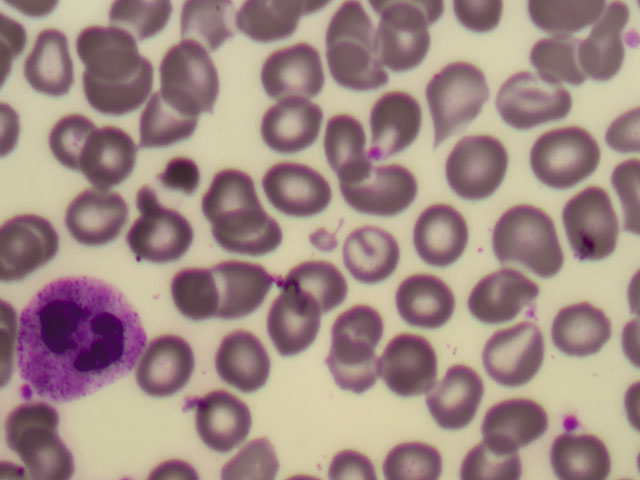Platelets: (561, 415, 583, 431), (370, 147, 387, 165)
RBC: (21, 28, 84, 85), (73, 16, 136, 73), (86, 53, 149, 110), (36, 108, 99, 165), (74, 126, 137, 183), (126, 92, 189, 149), (156, 44, 219, 101), (256, 38, 319, 95), (265, 102, 328, 159), (256, 154, 319, 211), (197, 167, 260, 224), (215, 201, 278, 258), (127, 205, 190, 262), (62, 185, 125, 242), (165, 262, 228, 319), (220, 257, 283, 314), (259, 292, 322, 349), (282, 262, 345, 319), (342, 225, 405, 282), (351, 162, 414, 219), (311, 109, 374, 166), (369, 88, 432, 145), (327, 41, 390, 98), (316, 3, 379, 60), (375, 13, 438, 70), (426, 73, 489, 130), (446, 142, 509, 199), (412, 210, 475, 267), (396, 264, 459, 321), (463, 268, 526, 325), (488, 204, 551, 261), (558, 193, 621, 250), (534, 126, 597, 183), (513, 82, 576, 139), (534, 31, 597, 88), (560, 3, 623, 60), (548, 305, 611, 362), (493, 327, 556, 384), (421, 365, 484, 422), (377, 341, 440, 398), (336, 339, 399, 396), (328, 305, 391, 362), (217, 329, 280, 386), (133, 330, 196, 387), (185, 390, 248, 447), (461, 423, 524, 480), (485, 393, 548, 450), (10, 423, 73, 480), (1, 208, 63, 265)
WBC: (19, 277, 143, 395)
